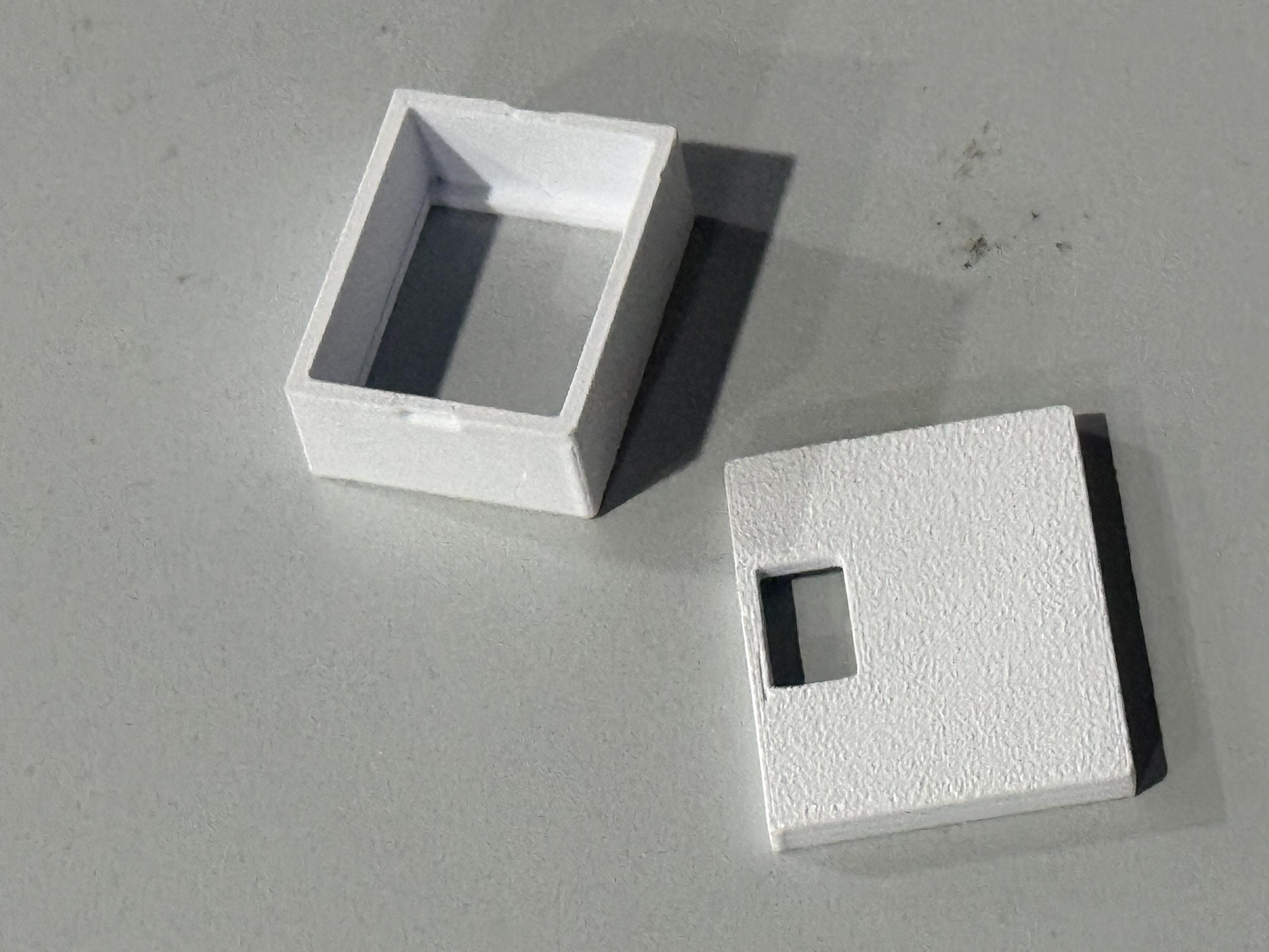enclosure: (723, 405, 1137, 853), (285, 88, 695, 519)
